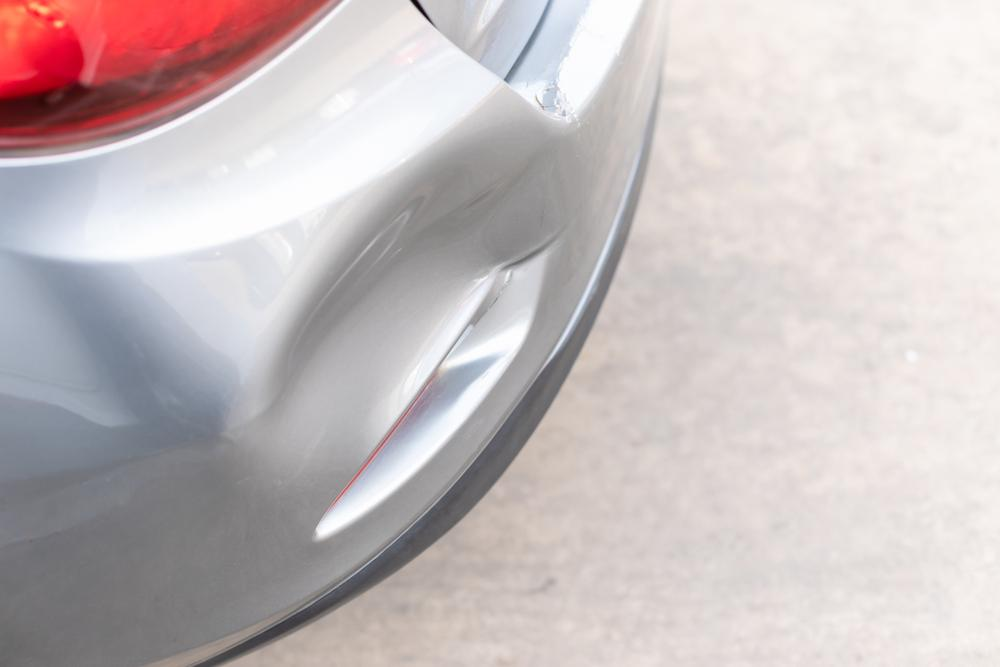dent: (255, 174, 552, 450)
